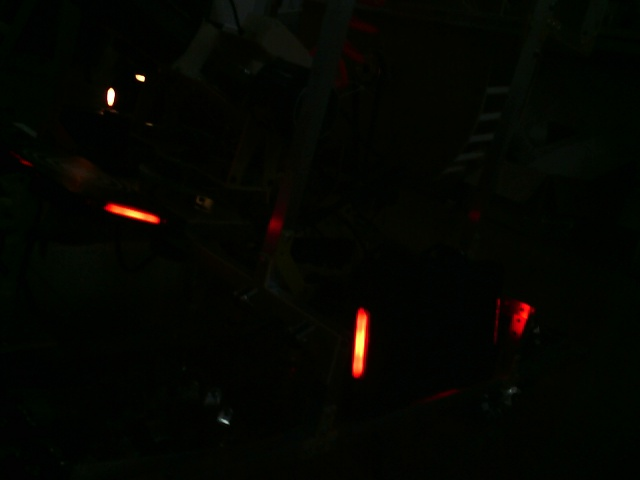lamp: (351, 307, 368, 379)
